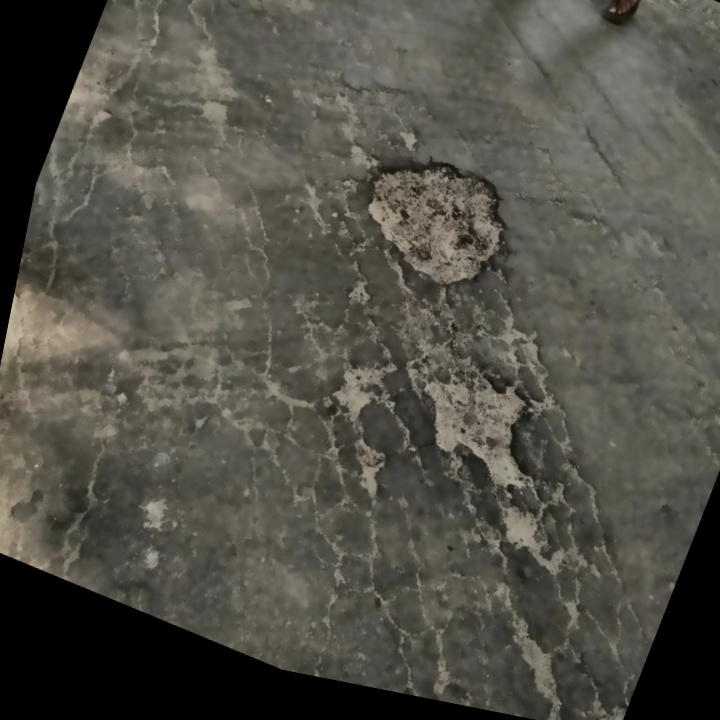pothole: (342, 129, 537, 309), (398, 347, 573, 500)
